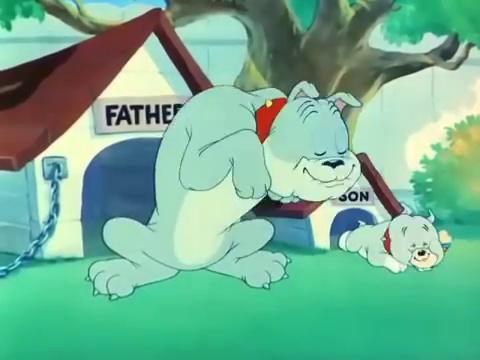spike: (252, 78, 370, 205)
